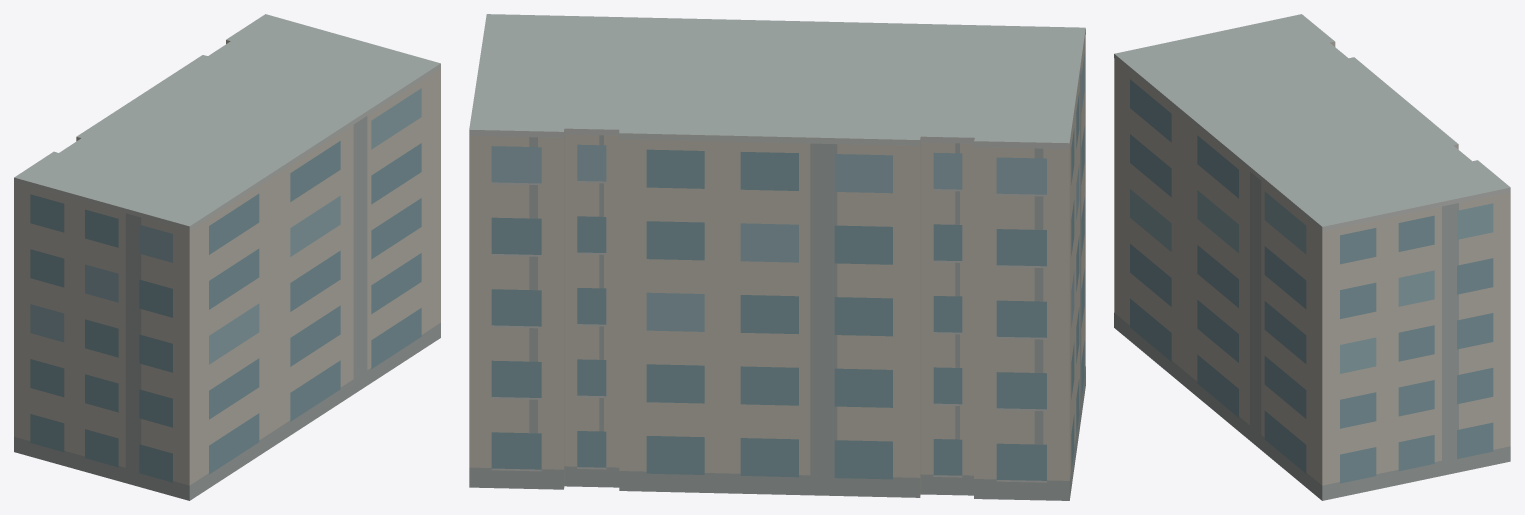
File: survey-upis-32914661.glb
3 views of the same model, side by side, from view 1: azimuth 30°, elevation 25°; view 2: azimuth 150°, elevation 25°; view 3: azimuth 270°, elevation 25° (orthographic). The views are drawn at different scales.
Parts seen in each view (by area): view 1: survey-upis-32914661.tmp; view 2: survey-upis-32914661.tmp; view 3: survey-upis-32914661.tmp.
Boxes of the visible parts, x1,y1,x2,y2 form: survey-upis-32914661.tmp: (14,14,440,500); survey-upis-32914661.tmp: (469,14,1085,500); survey-upis-32914661.tmp: (1114,14,1510,500).
Bounding box in the file's own units: 24.25 × 14.55 × 19.09.
